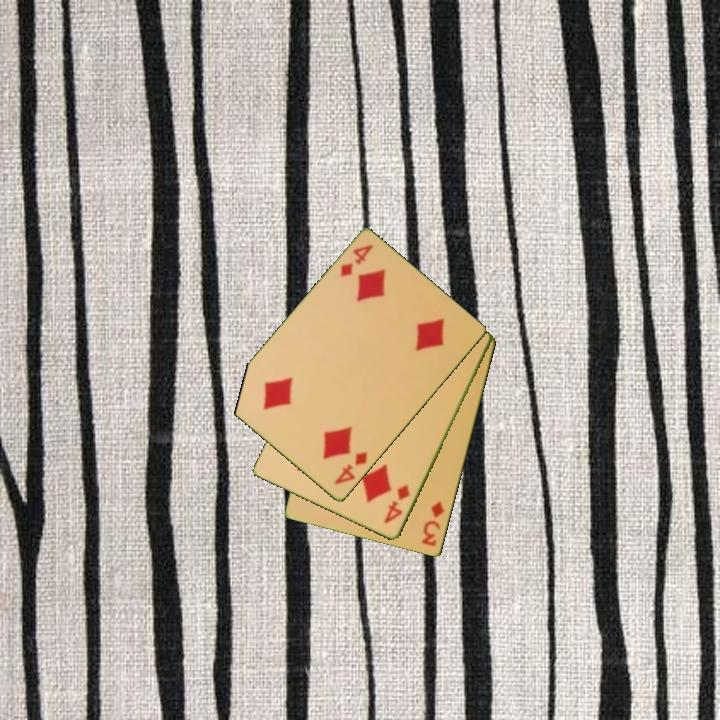3d: (418, 498, 447, 549)
4d: (331, 449, 370, 488), (337, 241, 376, 280), (380, 481, 413, 527)
